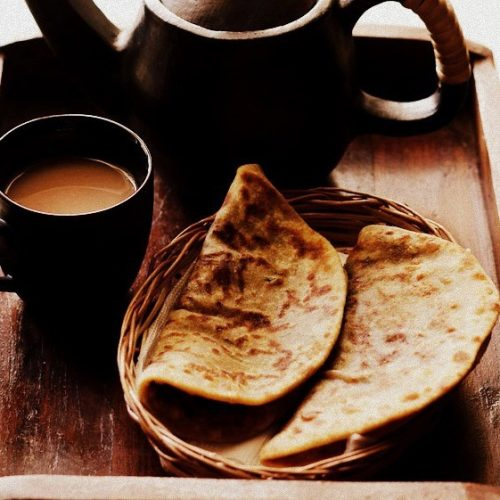aloo_paratha: (143, 164, 500, 470)
